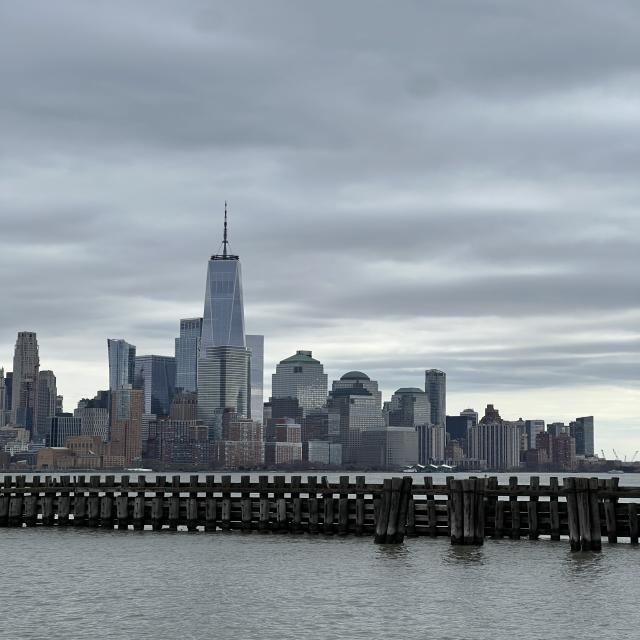WTC: (200, 200, 248, 346)
